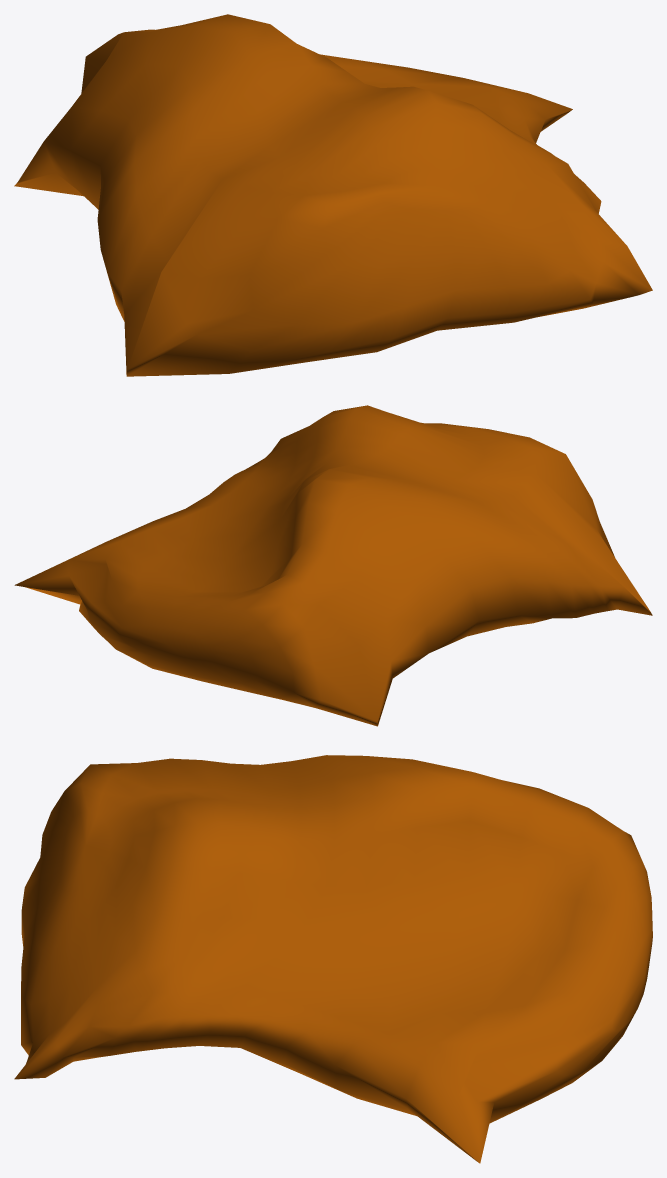
Rendered from beanbag.fbx.
3 views of the same model, one above another, from view 1: azimuth 30°, elevation 25°; view 2: azimuth 150°, elevation 25°; view 3: azimuth 270°, elevation 25° (orthographic). The views are drawn at different scales.
Visible parts, largest first — view 1: beanbag; view 2: beanbag; view 3: beanbag.
Part boxes in pixels (x1,y1,x2,y2): beanbag: (14, 14, 652, 376); beanbag: (14, 405, 652, 726); beanbag: (14, 755, 652, 1163).
Bounding box in the file's own units: 234 × 73.83 × 200.
